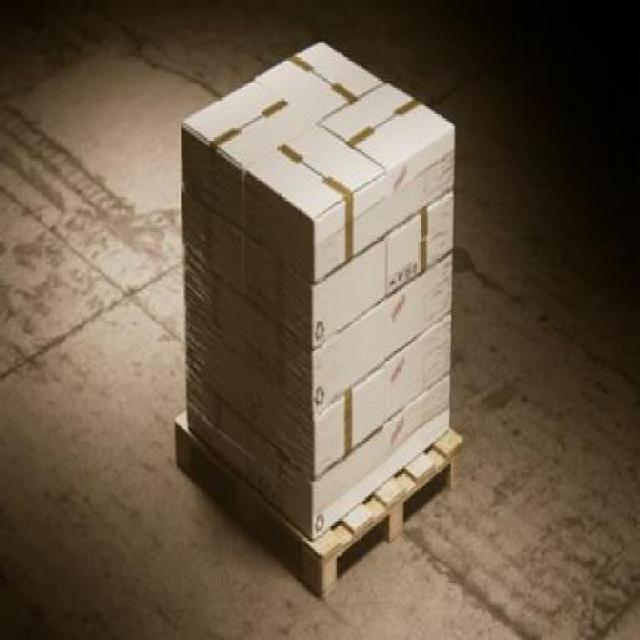box: (322, 78, 455, 235), (247, 126, 380, 274), (246, 240, 387, 351), (186, 79, 316, 192), (260, 37, 376, 132), (375, 191, 466, 288)
